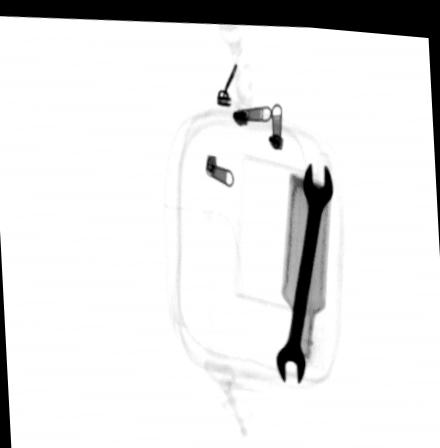Wrench: (275, 153, 335, 380)
